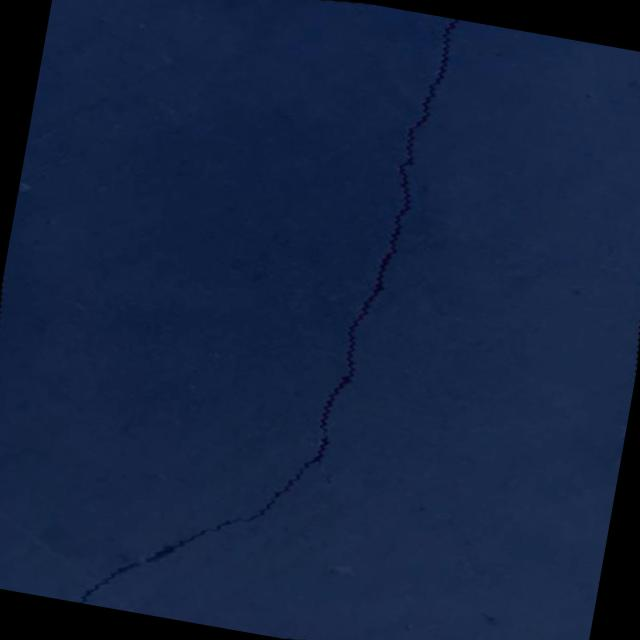crack: (1, 0, 514, 640)
